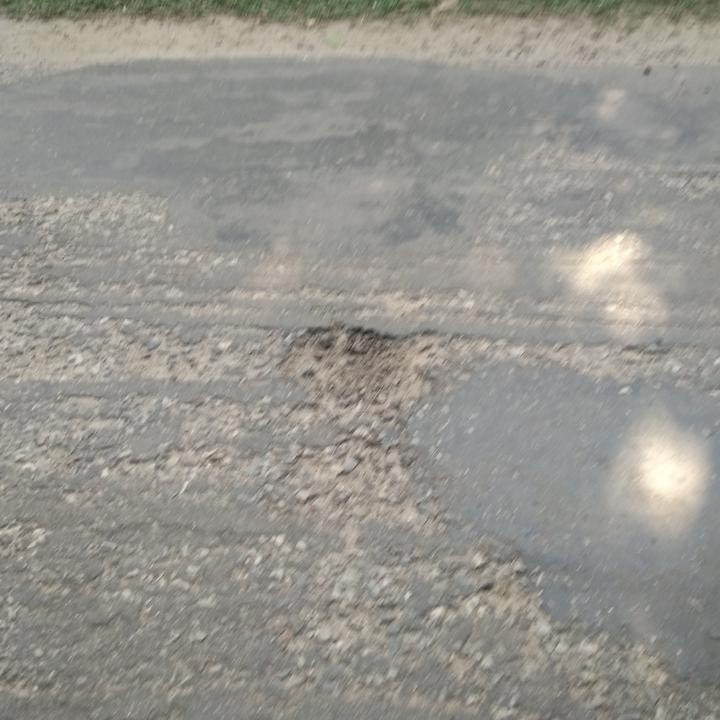pothole: (278, 315, 445, 424)
